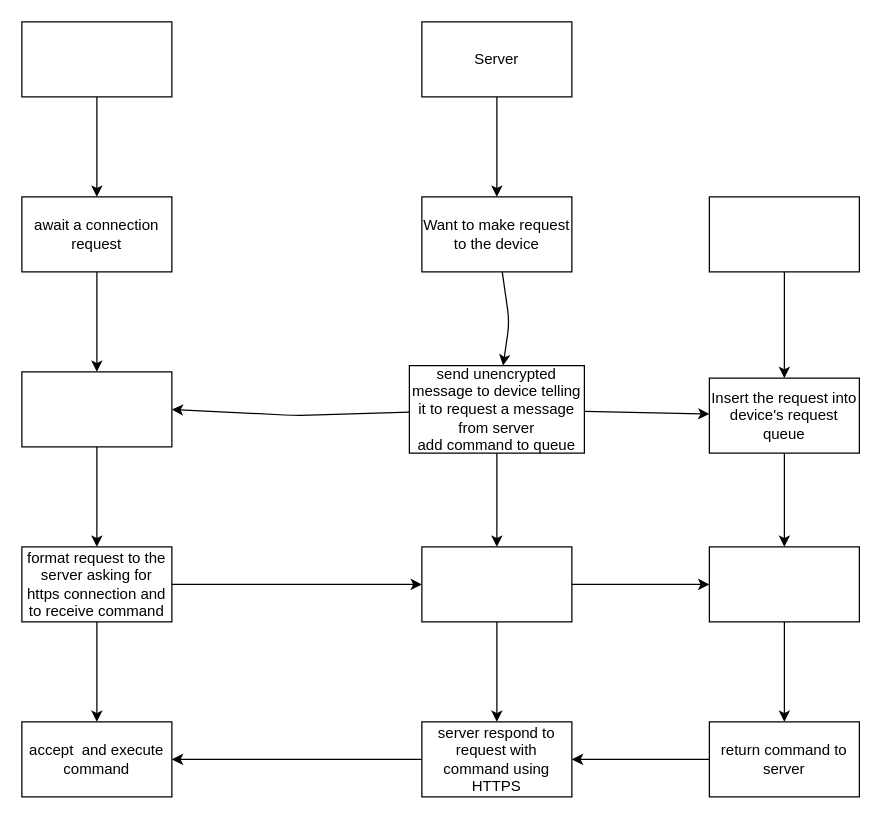
Some shapes in this 881 by 819 pixel diagram are drawn without their labels. Each missing label, with the box of its shape:
accept https connection, submit command: (421, 546, 572, 622)
command is popped from the front of the queue: (708, 546, 859, 622)
Command Queue: (708, 196, 859, 272)
Device: (21, 21, 172, 97)
receive the message: (21, 371, 172, 447)
